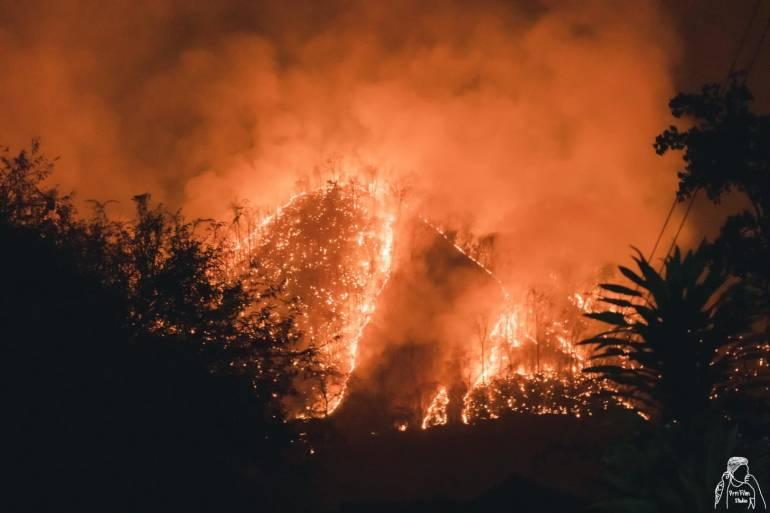fire: (153, 143, 737, 477)
